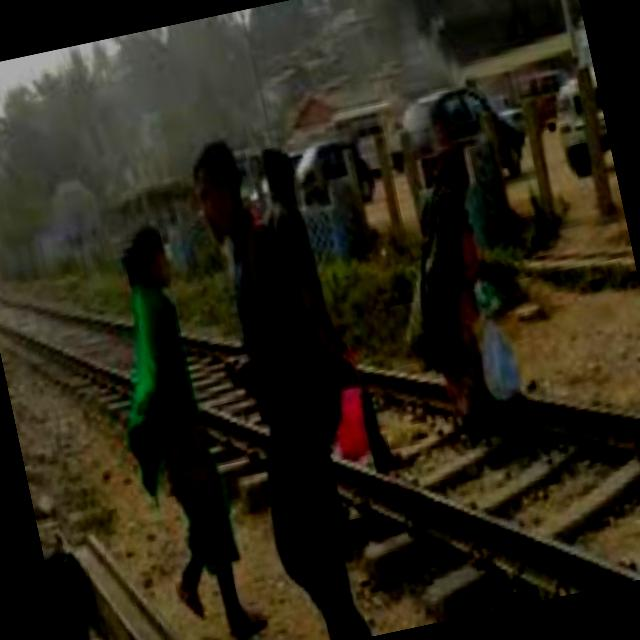Person: (182, 127, 392, 640), (99, 213, 272, 640), (249, 125, 408, 489), (388, 150, 516, 429)
